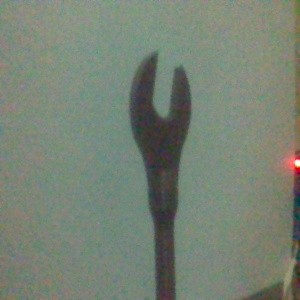spanner: (129, 50, 192, 300)
